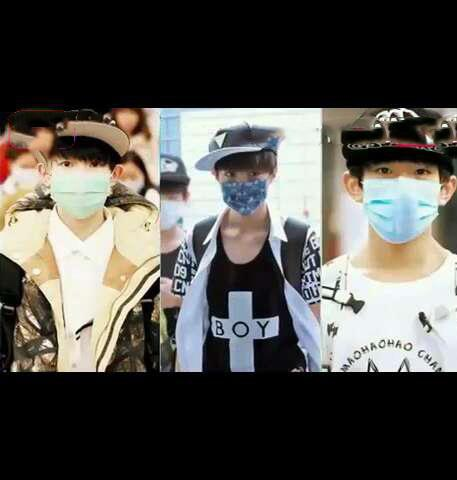OK: (42, 150, 117, 225), (366, 158, 441, 233), (223, 164, 271, 212), (153, 188, 185, 231)
